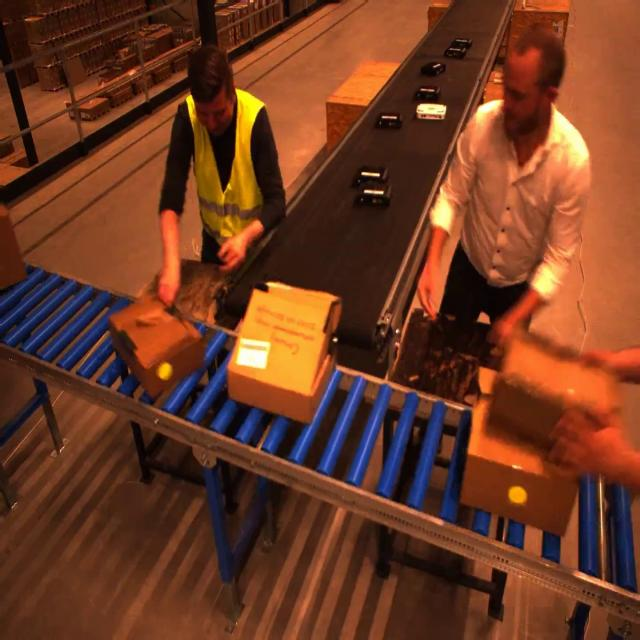box: (228, 245, 346, 448), (460, 400, 579, 538), (486, 329, 618, 453), (106, 296, 206, 401)
product: (354, 183, 393, 208), (413, 105, 451, 125), (354, 162, 390, 182), (443, 38, 473, 58), (374, 112, 403, 129), (413, 85, 441, 101), (420, 61, 446, 76)
